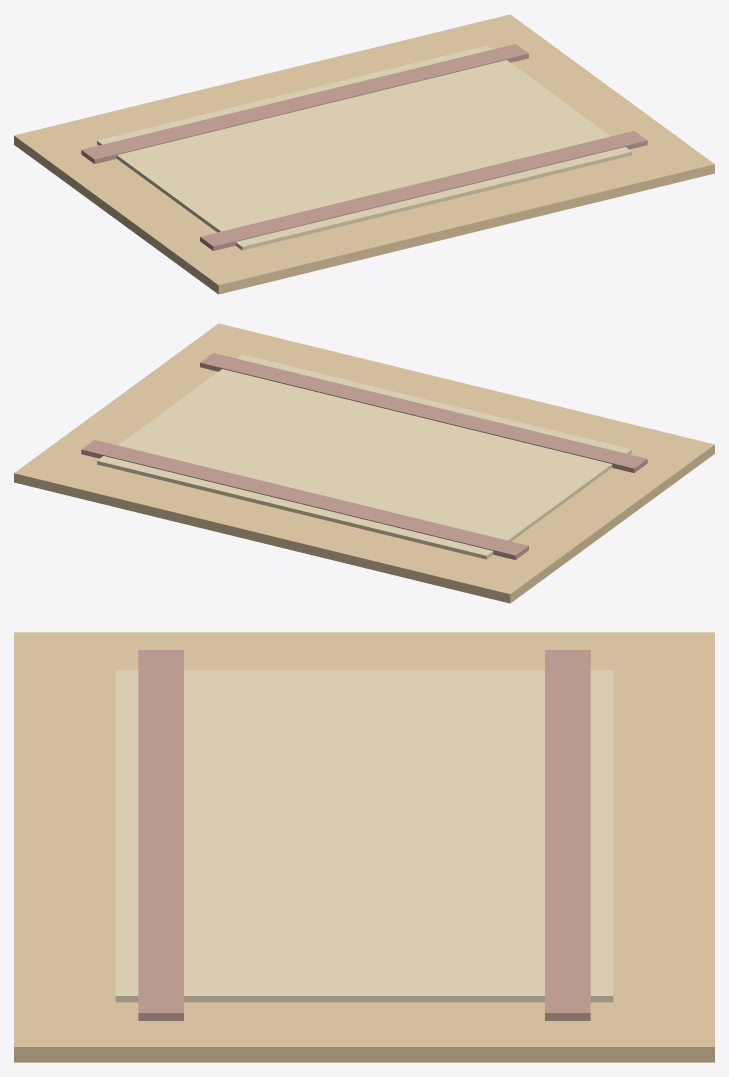
The model's file is woven-rug.glb.
3 renders of one model, top to bottom at view 1: azimuth 30°, elevation 25°; view 2: azimuth 150°, elevation 25°; view 3: azimuth 270°, elevation 25°, orthographic. The views are drawn at different scales.
Visible parts, largest first — view 1: rug, rug-center, rug-band-2, rug-band-1; view 2: rug, rug-center, rug-band-1, rug-band-2; view 3: rug-center, rug, rug-band-1, rug-band-2.
Part boxes in pixels (x1,y1,x2,y2): rug: (14,14,714,294); rug-center: (97,45,631,250); rug-band-2: (200,131,647,250); rug-band-1: (81,44,528,163); rug: (14,323,714,603); rug-center: (97,354,631,559); rug-band-1: (81,440,528,559); rug-band-2: (200,353,647,472); rug-center: (115,670,613,1002); rug: (14,632,714,1062); rug-band-1: (545,650,590,1020); rug-band-2: (138,650,183,1020).
Bounding box in the file's own units: 2.8 × 0.075 × 2.
